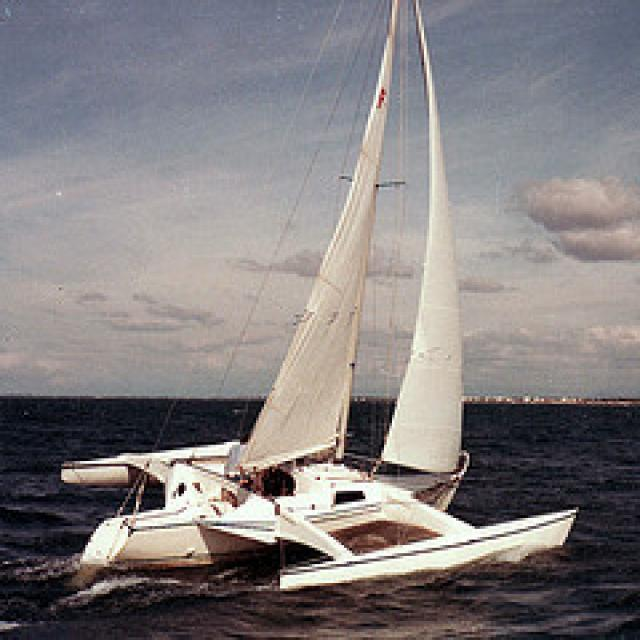Ship: (59, 1, 583, 600)
